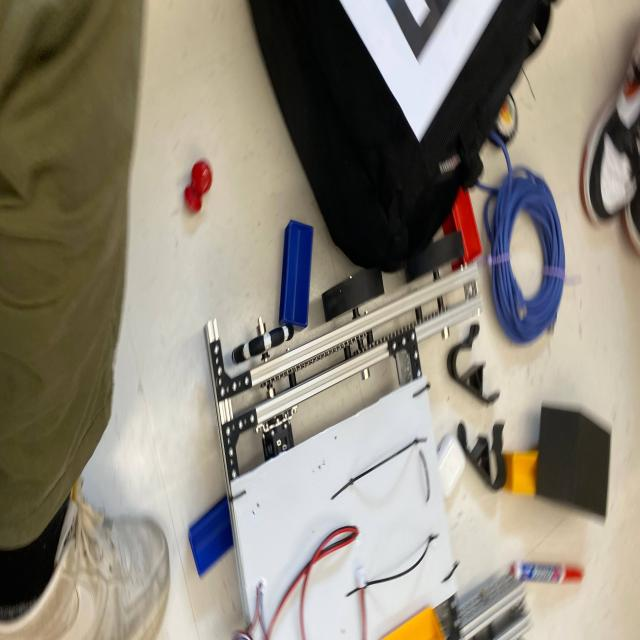blue-specimen: (279, 220, 313, 328), (188, 497, 233, 576)
red-specimen: (443, 188, 482, 264)
yellow-specimen: (382, 607, 445, 640), (504, 450, 538, 496)
